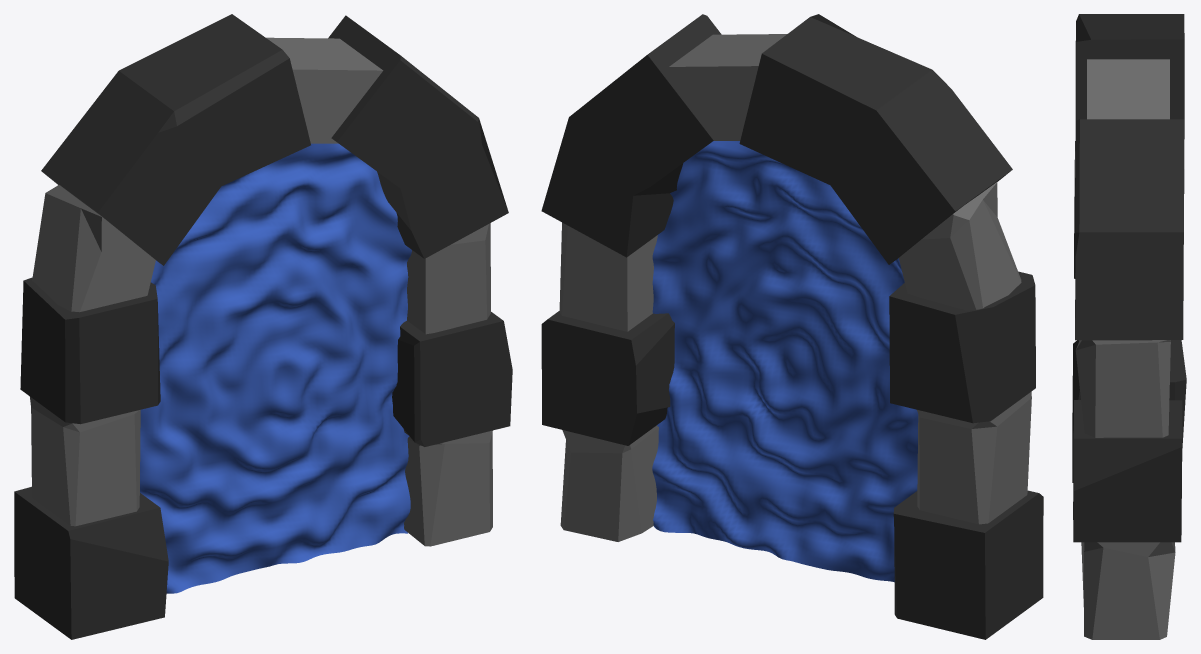
File: Portal.fbx
3 renders of one model, left to right at view 1: azimuth 30°, elevation 25°; view 2: azimuth 150°, elevation 25°; view 3: azimuth 270°, elevation 25°, orthographic. The views are drawn at different scales.
Visible parts, largest first — view 1: Plane.001, Plane.002, Plane; view 2: Plane.001, Plane.002, Plane; view 3: Plane.001, Plane.
Boxes of the visible parts, x1,y1,x2,y2 form: Plane.001: (14, 14, 512, 639); Plane.002: (140, 143, 411, 593); Plane: (29, 37, 492, 546); Plane.001: (541, 14, 1043, 639); Plane.002: (652, 141, 918, 582); Plane: (559, 34, 1031, 541); Plane.001: (1072, 14, 1186, 542); Plane: (1075, 59, 1175, 639).
Size of the model in its own units: 313 by 357 by 73.82.
